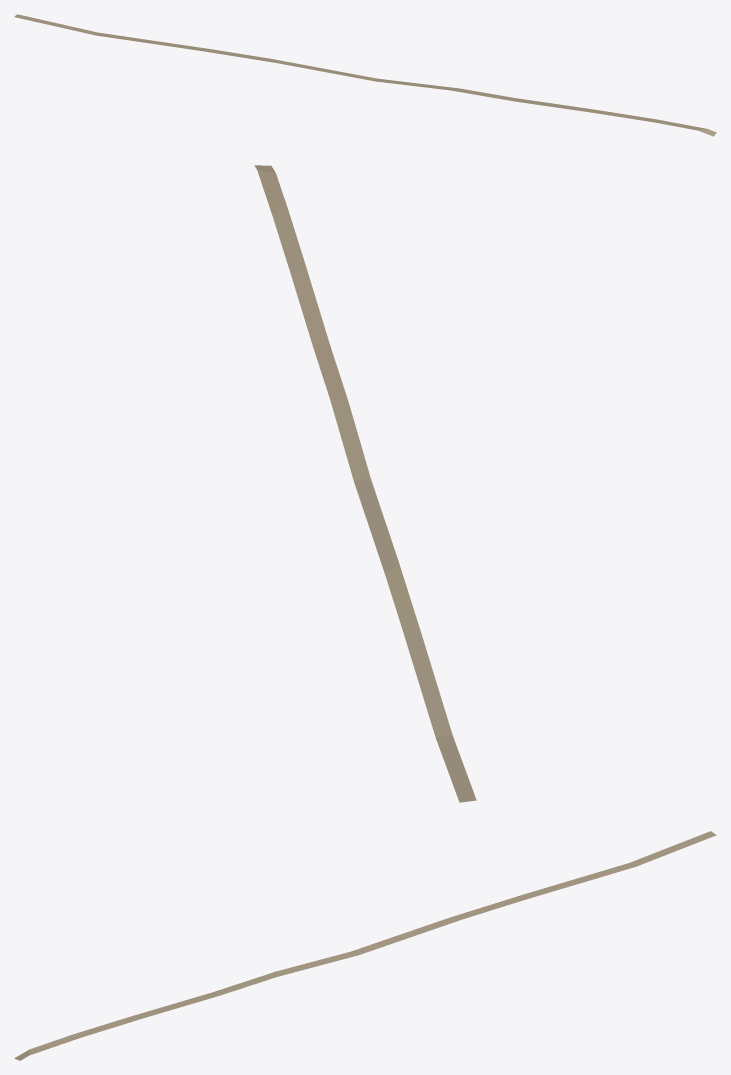
The model's file is farm_-18_-25_track.glb.
3 renders of one model, top to bottom at view 1: azimuth 30°, elevation 25°; view 2: azimuth 150°, elevation 25°; view 3: azimuth 270°, elevation 25°, orthographic. The views are drawn at different scales.
Visible parts, largest first — view 1: geometry_0; view 2: geometry_0; view 3: geometry_0.
Part boxes in pixels (box(x1,y1,x2,y2)): geometry_0: box(14, 14, 716, 136); geometry_0: box(254, 165, 476, 802); geometry_0: box(14, 831, 716, 1060).
Size of the model in its own units: 178 by 4.15 by 228.
